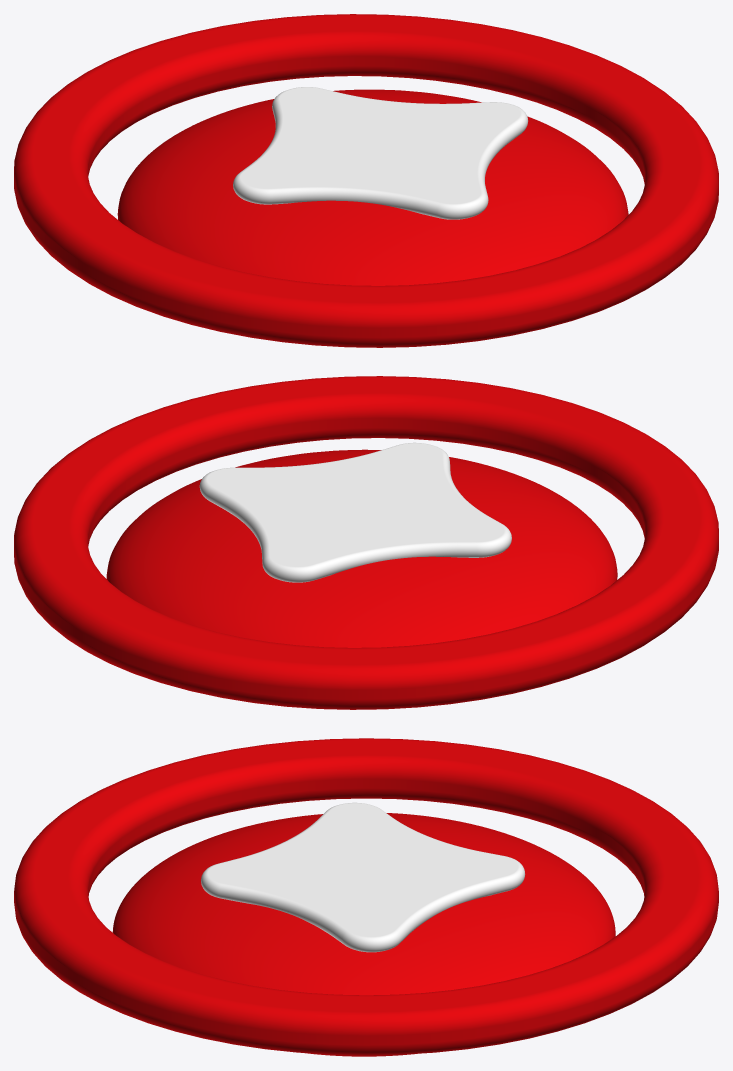
Rendered from BOTÃOred.glb.
3 views of the same model, one above another, from view 1: azimuth 30°, elevation 25°; view 2: azimuth 150°, elevation 25°; view 3: azimuth 270°, elevation 25° (orthographic). The views are drawn at different scales.
Parts seen in each view (by area): view 1: Ellipse 3, Sphere 3, Star 3; view 2: Ellipse 3, Sphere 3, Star 3; view 3: Ellipse 3, Sphere 3, Star 3.
Part boxes in pixels (x1,y1,x2,y2): Ellipse 3: (14,14,718,347); Sphere 3: (117,89,628,285); Star 3: (233,87,528,219); Ellipse 3: (14,376,718,709); Sphere 3: (106,449,617,647); Star 3: (199,442,511,582); Ellipse 3: (14,738,718,1055); Sphere 3: (112,813,615,1056); Star 3: (201,802,525,952).
Size of the model in its own units: 3.72 by 0.7915 by 3.86.
